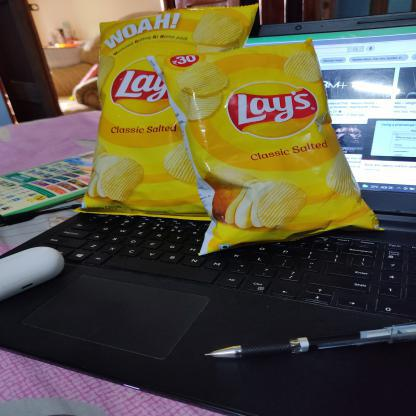classicsalted: (148, 39, 386, 255), (78, 12, 207, 216)
